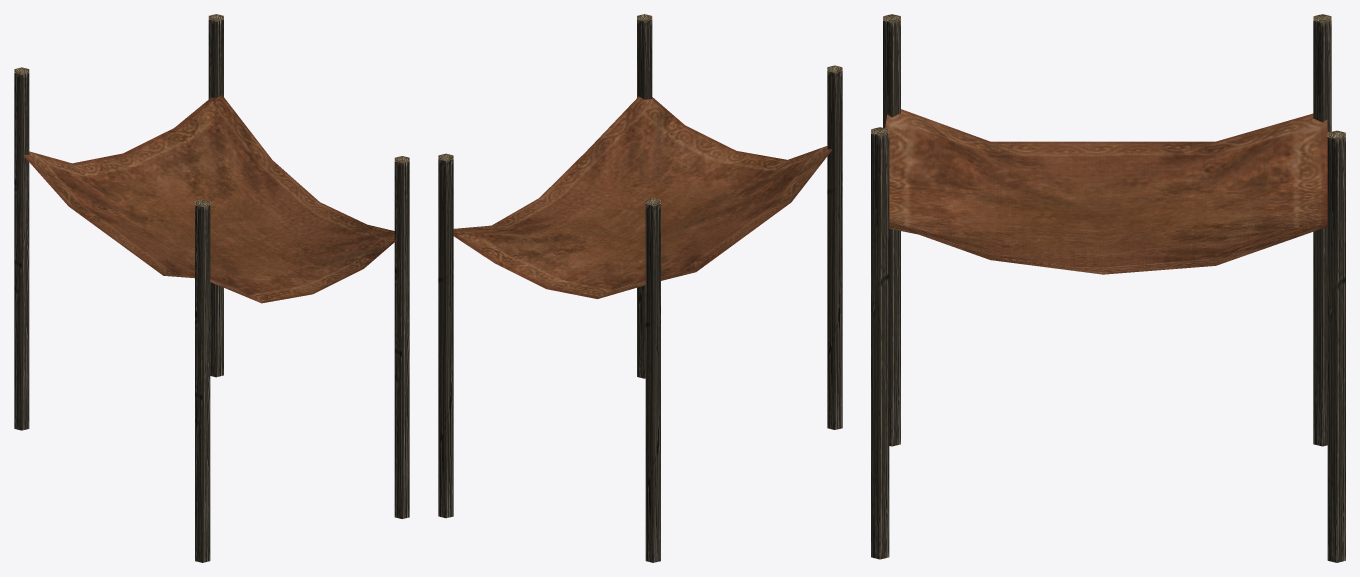
File: Shed02_Build_001.FBX
3 views of the same model, side by side, from view 1: azimuth 30°, elevation 25°; view 2: azimuth 150°, elevation 25°; view 3: azimuth 270°, elevation 25° (orthographic). The views are drawn at different scales.
Visible parts, largest first — view 1: Shed02_Build_001; view 2: Shed02_Build_001; view 3: Shed02_Build_001.
Boxes of the visible parts, x1,y1,x2,y2 form: Shed02_Build_001: (14,14,409,562); Shed02_Build_001: (438,14,842,562); Shed02_Build_001: (871,14,1345,562).
Size of the model in its own units: 117 by 184 by 187.
Materials: 1 (1 with a texture image).
